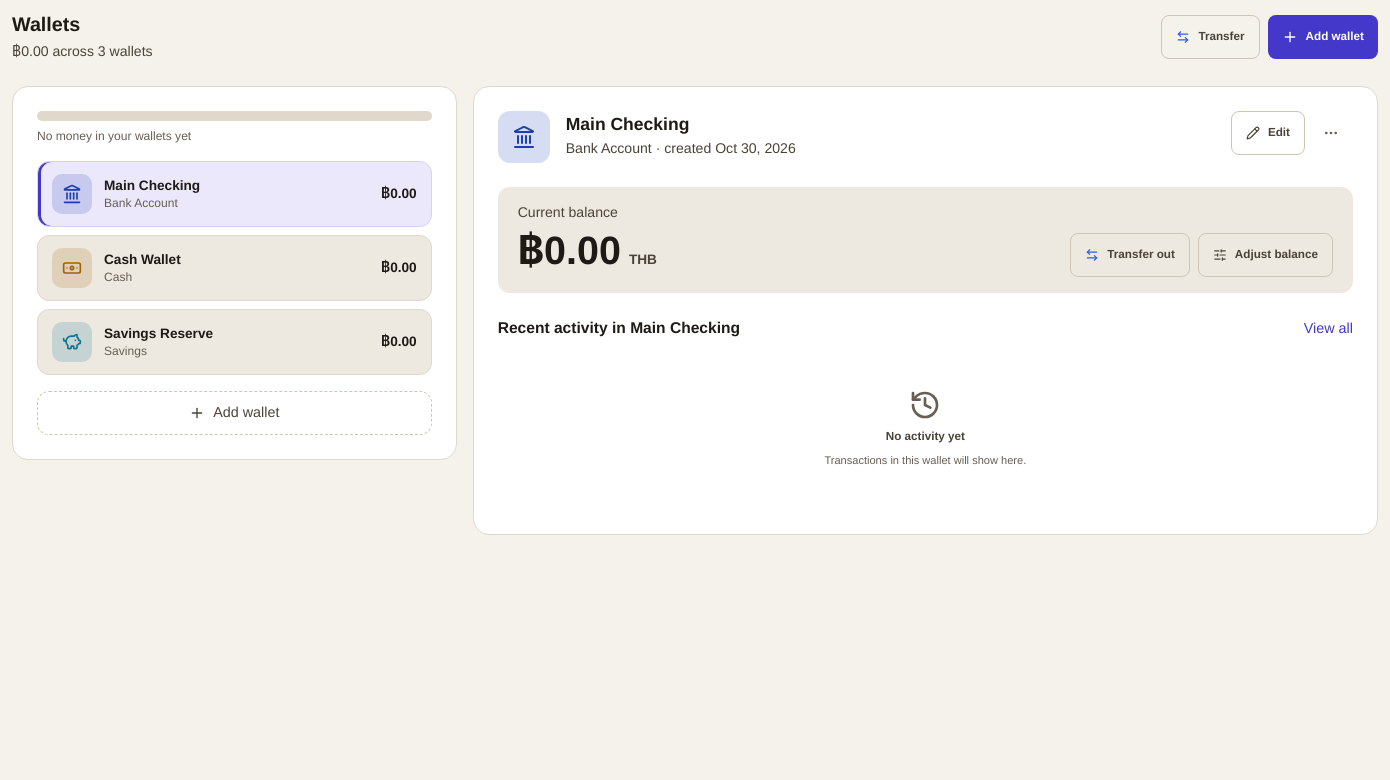
Test: the detail header › reads "type · created <date>" in the local calendar day, and its menu holds Archive and Delete
Expected: the text with id "wallet-detail-meta" reads "Bank Account · created Oct 30, 2026", [566, 137, 796, 160]
Click the button with id "wallet-detail-menu-btn" at (1331, 133), box [1309, 111, 1353, 155]
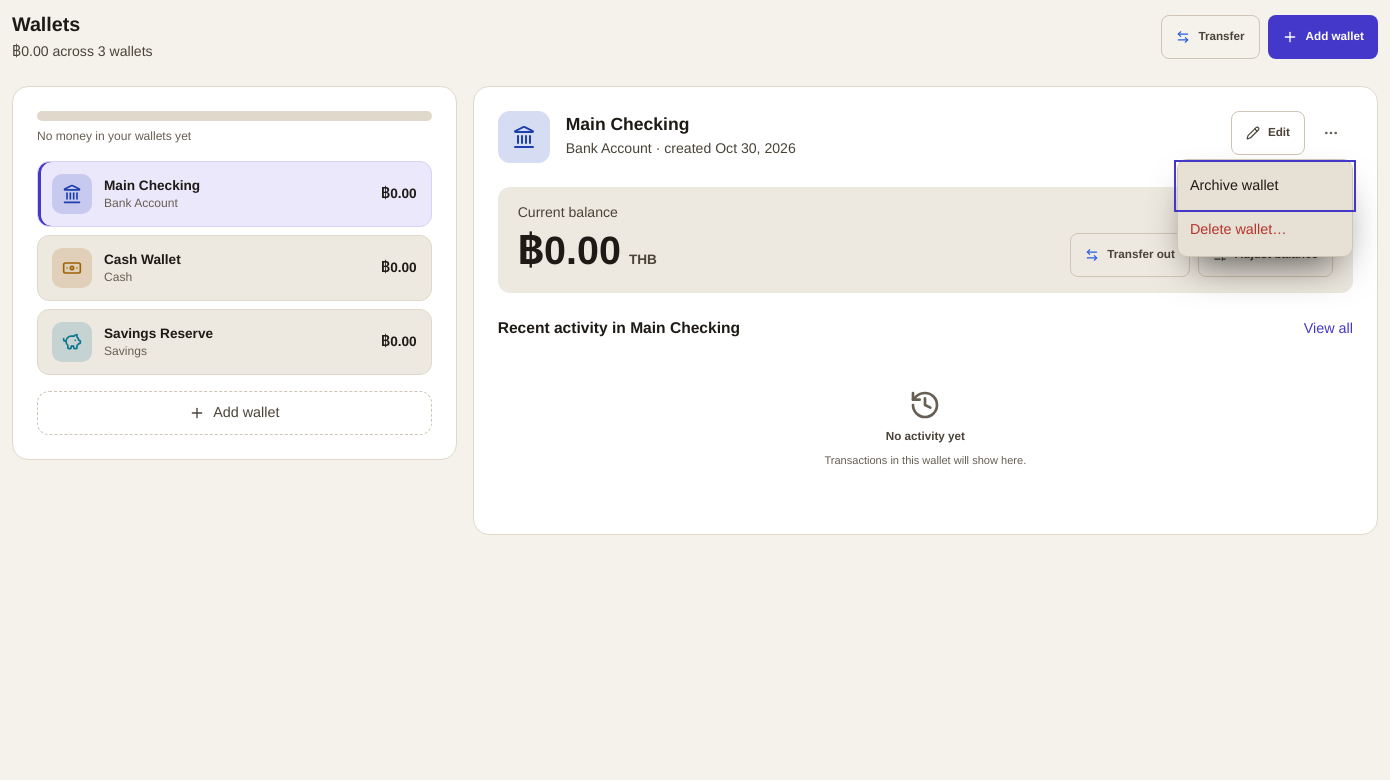
Expected: the menu item with id "wallet-archive-wal-main-checking" reads "Archive wallet", [1178, 164, 1352, 208]
Expected: the menu item with id "wallet-delete-wal-main-checking" reads "Delete wallet…", [1178, 208, 1352, 252]
